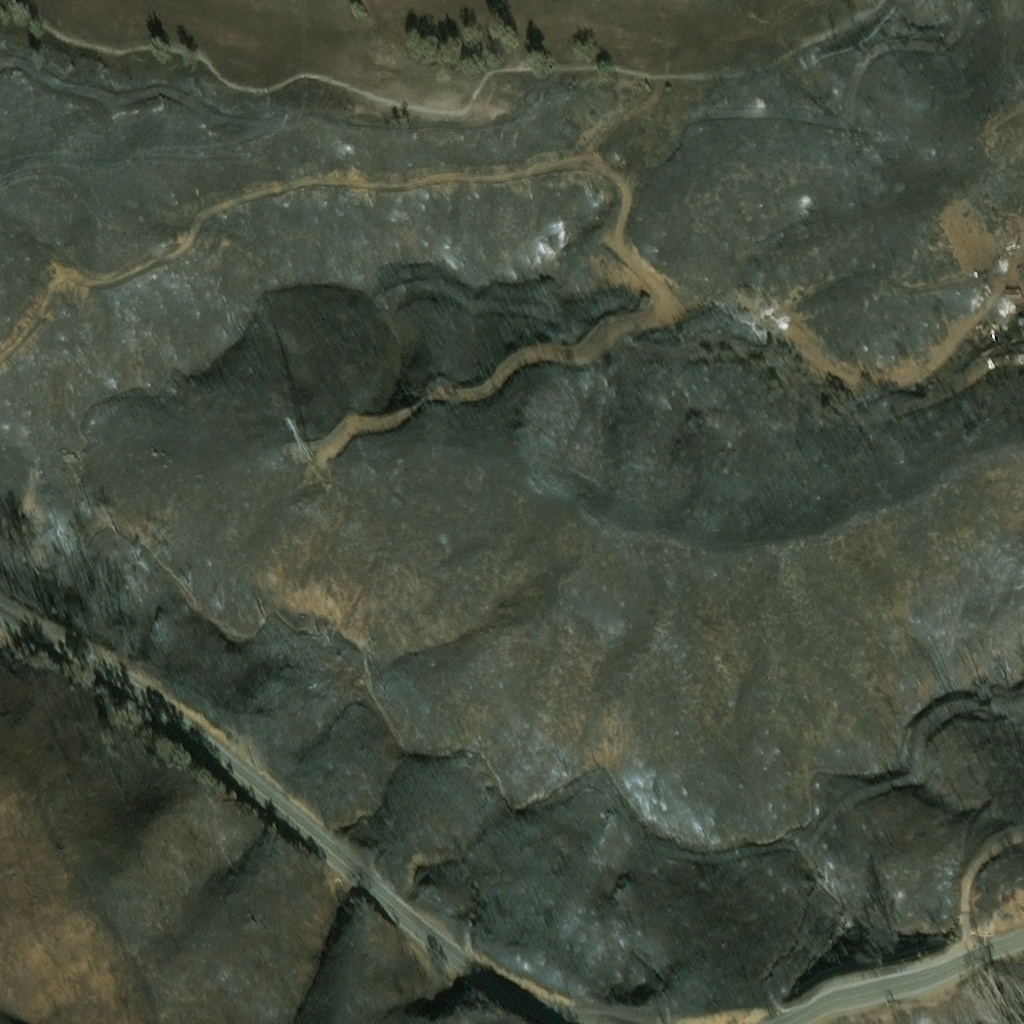4 un-classified: (1013, 346, 1023, 353)
